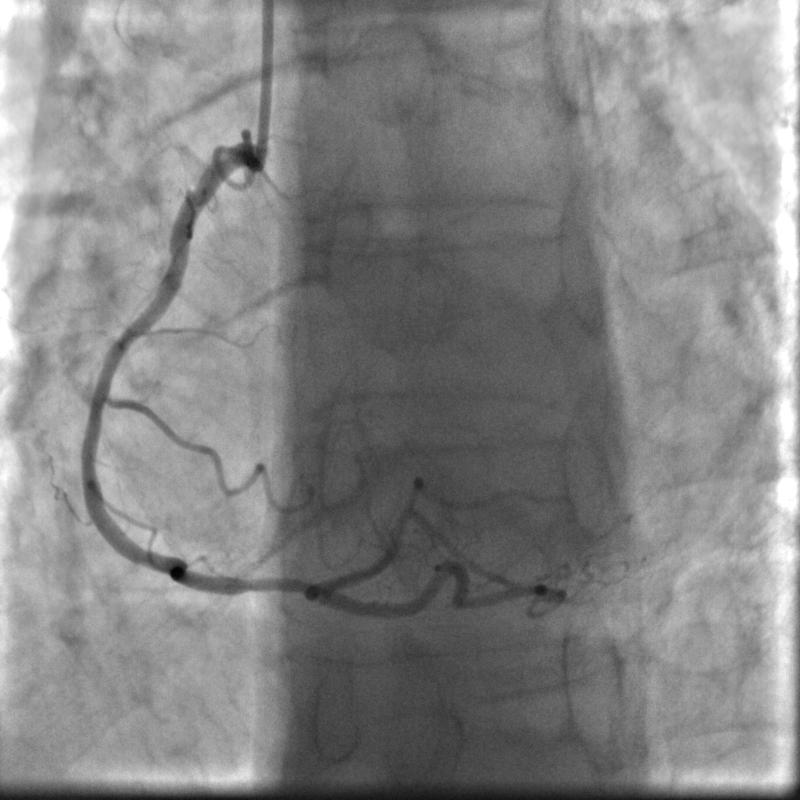Stenosis: (224, 557, 320, 619)
